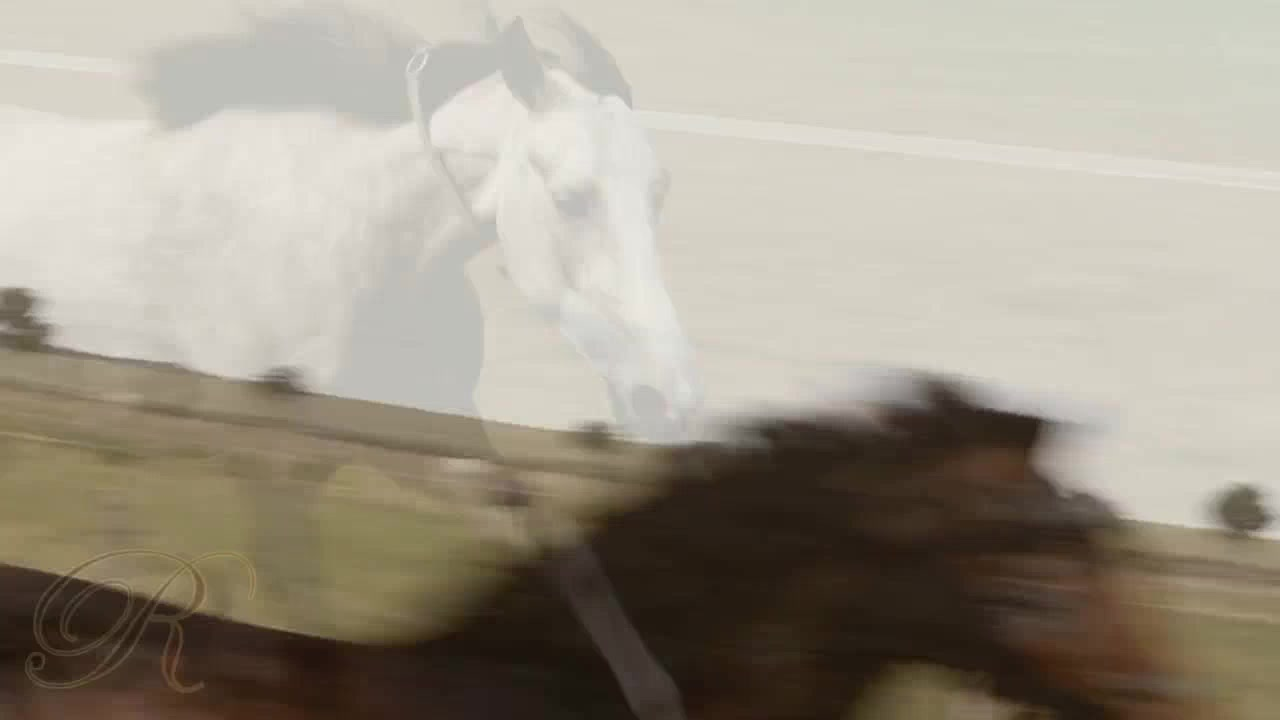horse: (1, 5, 697, 720), (1, 370, 1220, 720)
